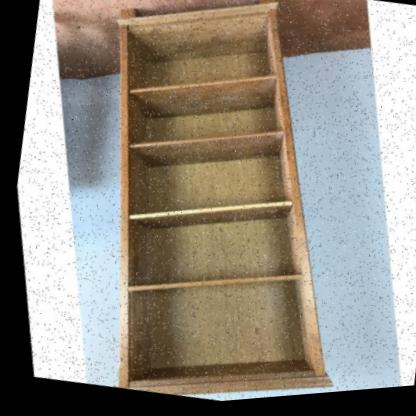Shelf: (0, 0, 411, 416)
